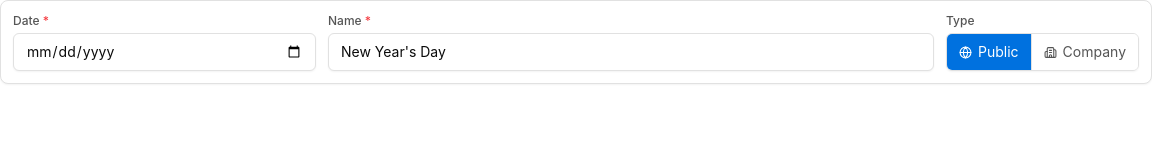
Test: HolidayForm › date validation › shows error for empty date after touch
The width and height of the screenshot is (1152, 160).
Click the date field labelled "Date *" at [164, 52], box left=13, top=33, right=316, bottom=71
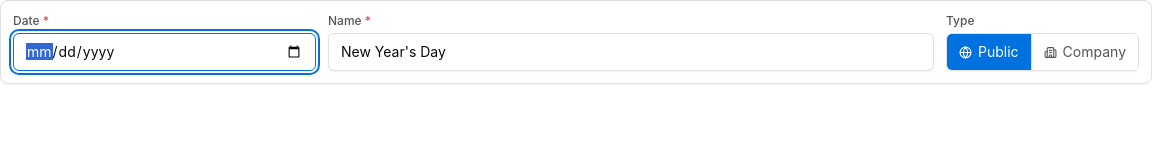
Press Tab
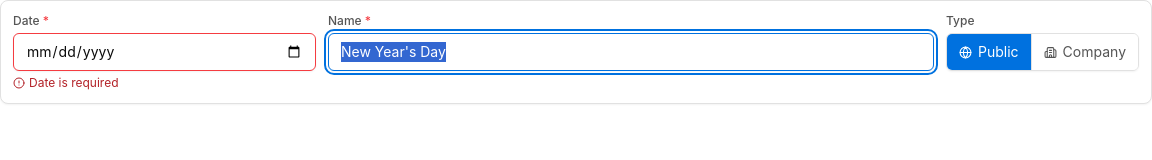
Expected: the text "Date is required" is shown, left=13, top=75, right=118, bottom=90
